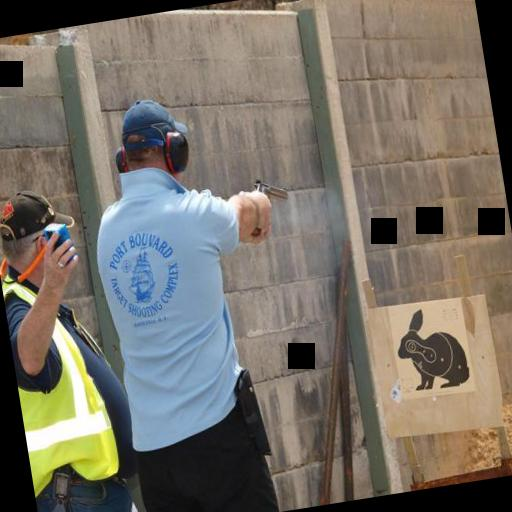Handgun: (245, 167, 293, 222)
